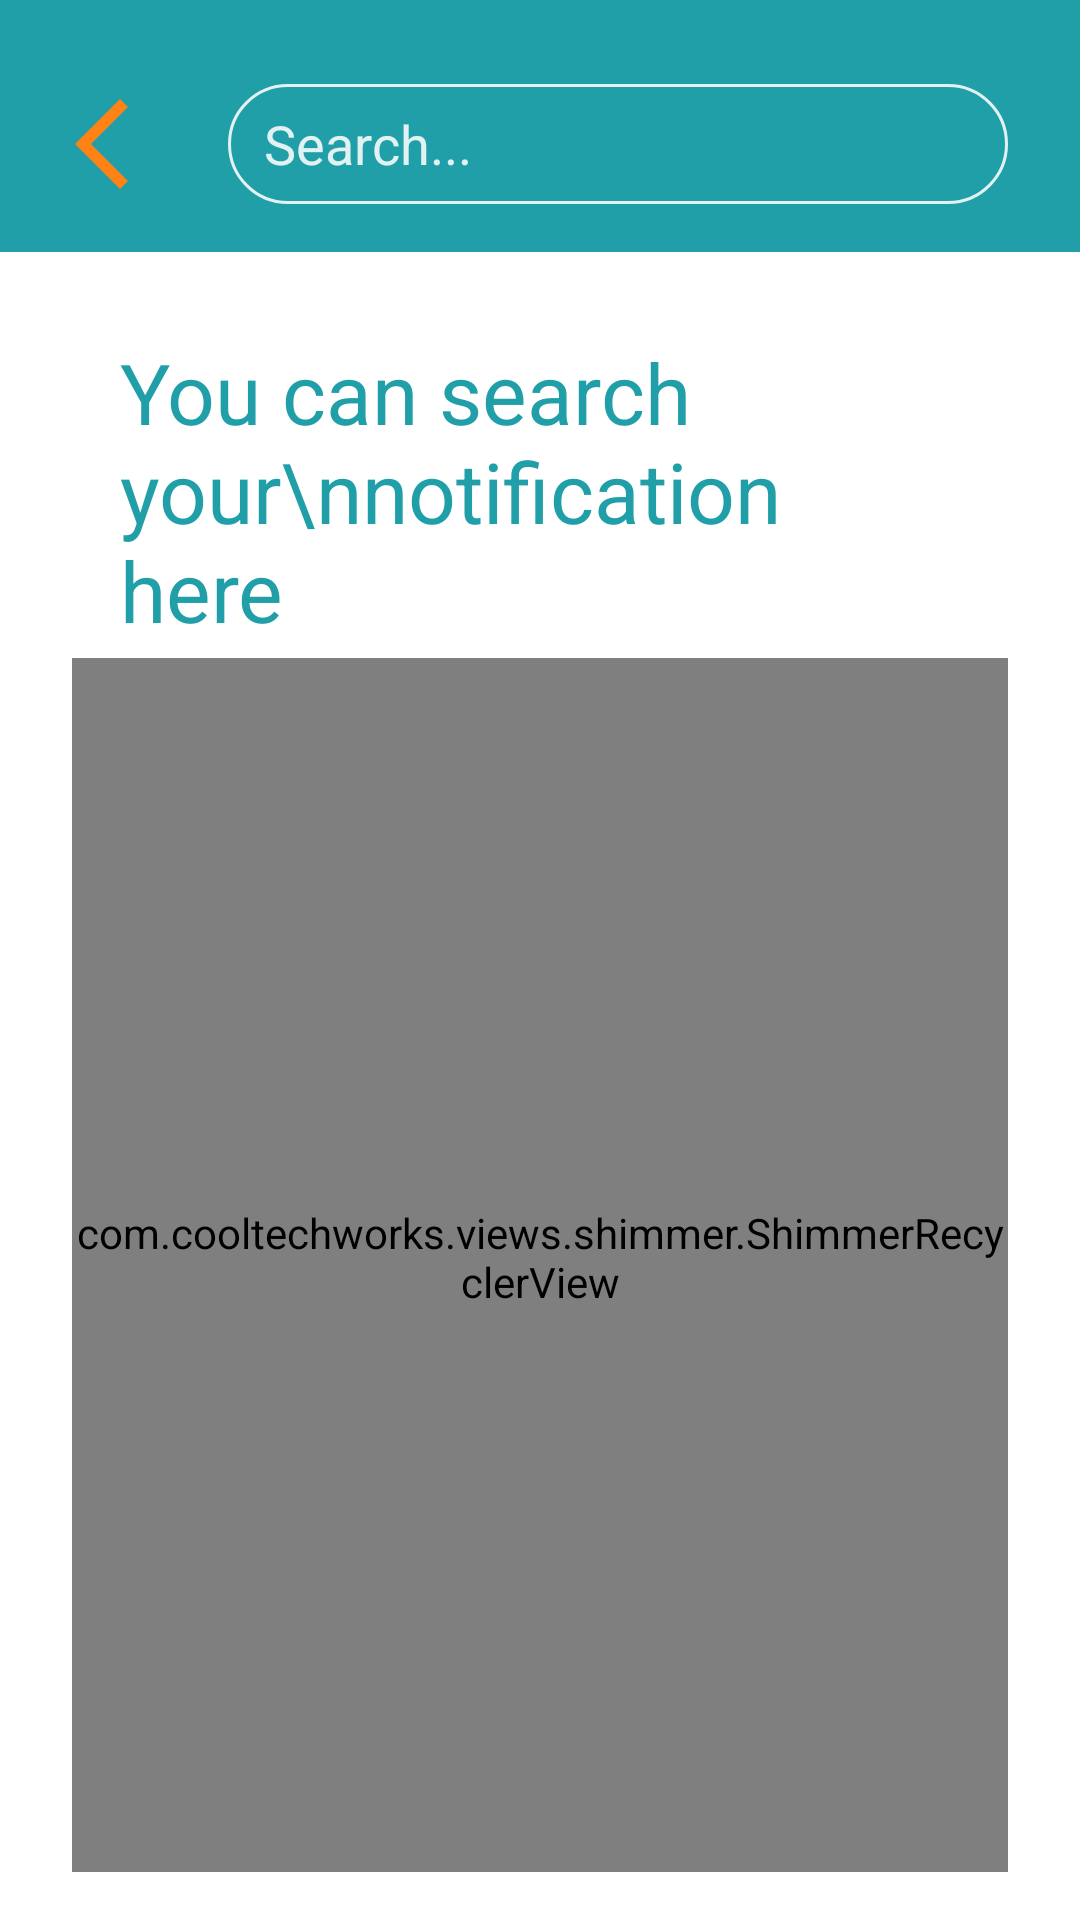

Icon bounding boxes for this 1080w x 1920h phone screenshot, format (x1, y1, x2, y2):
arrow back: (75, 99, 128, 189)
